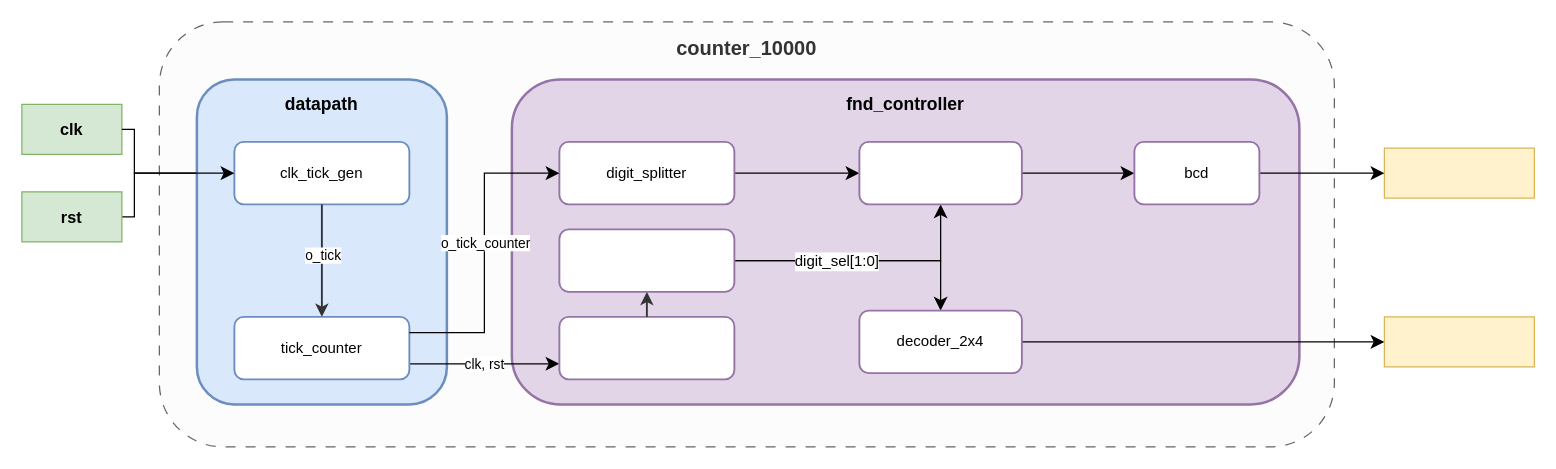
This 1556x469 diagram has some shape labels left out. Here are the shapes that lost their labels. From the top down, the centre of each, then its label:
At point (940, 172): "mux_4x1".
At point (1458, 172): "fnd_data[7:0]".
At point (646, 260): "counter_4".
At point (646, 347): "clk_div_1khz".
At point (1458, 341): "fnd_com[3:0]".
